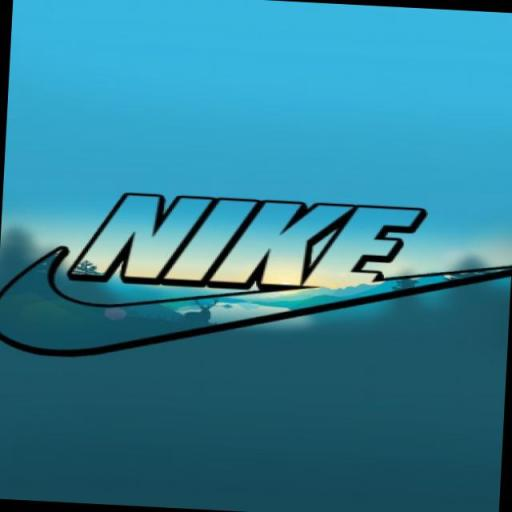Nike: (0, 237, 512, 380), (62, 186, 436, 302)
